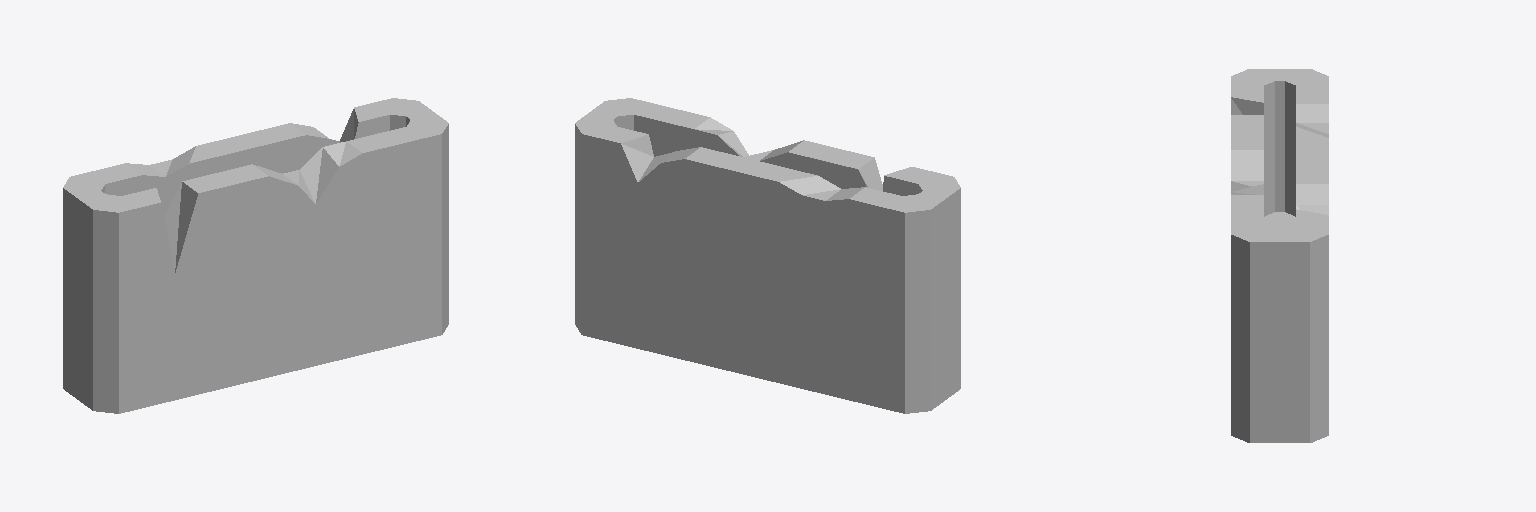
Rendered from Slot.obj.
3 views of the same model, side by side, from view 1: azimuth 30°, elevation 25°; view 2: azimuth 150°, elevation 25°; view 3: azimuth 270°, elevation 25° (orthographic).
Visible parts, largest first — view 1: Cube; view 2: Cube; view 3: Cube.
Boxes of the visible parts, <box> form: Cube: <box>63,98,448,413</box>; Cube: <box>575,98,960,413</box>; Cube: <box>1231,69,1328,442</box>.
Size of the model in its own units: 8.36 by 4.52 by 2.